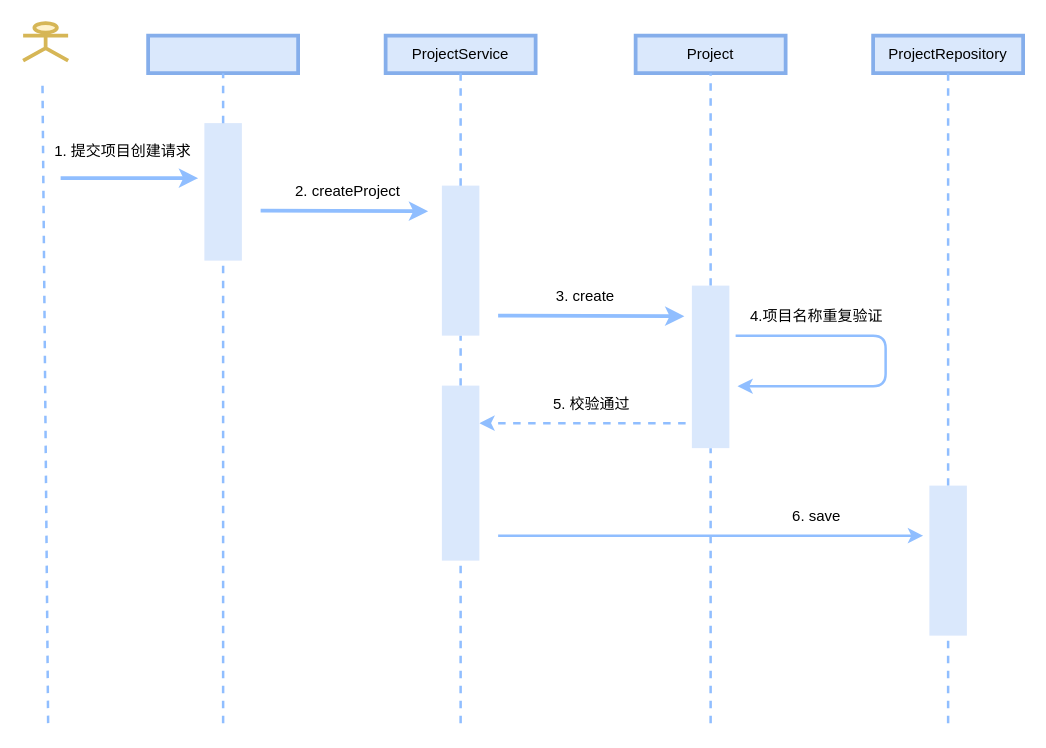
Some shapes in this 1046 by 748 pixel diagram are drawn without their labels. The shapes that lost their labels are listed below. From the top down, each one's centre as x and y in pixels, then its label:
At [45,41]: "用户".
At [222,53]: "ProjectResource".
